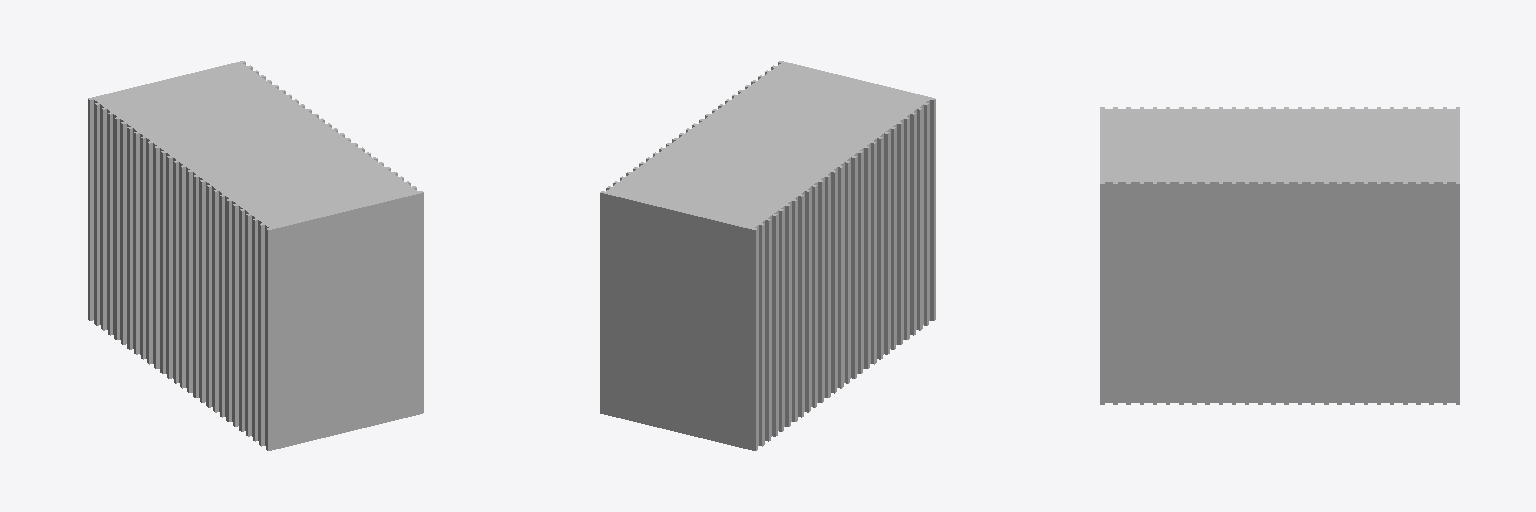
Rendered from rocket-bay.obj.
3 renders of one model, left to right at view 1: azimuth 30°, elevation 25°; view 2: azimuth 150°, elevation 25°; view 3: azimuth 270°, elevation 25°, orthographic.
Visible parts, largest first — view 1: 立方体; view 2: 立方体; view 3: 立方体.
Boxes of the visible parts, x1,y1,x2,y2 form: 立方体: [88, 61, 423, 450]; 立方体: [600, 61, 935, 450]; 立方体: [1100, 107, 1459, 404].
Size of the model in its own units: 0.1442 by 0.1954 by 0.2889.